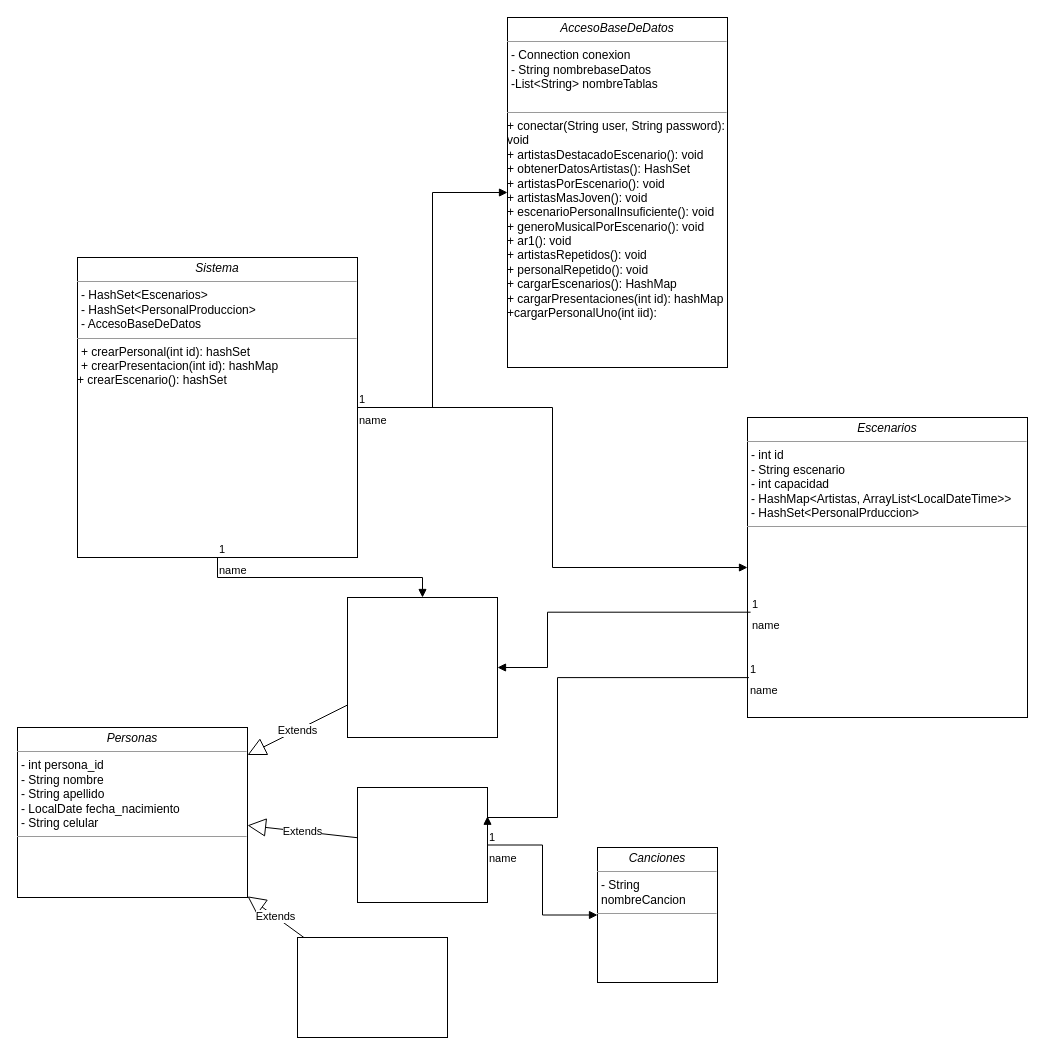
Image size: 1045x1055. Some labels were removed from this diagram. The centre of each missing label's shape, as x and y in pixels:
Artistas - String genero_musical - Boolean es_destacado - ArrayList<Canciones>: (x=422, y=844)
Asistentes - Boolean es_vip - String requerimiento_varchar: (x=372, y=987)
PersonalProduccion - int idPersonal - String rol: (x=422, y=667)
